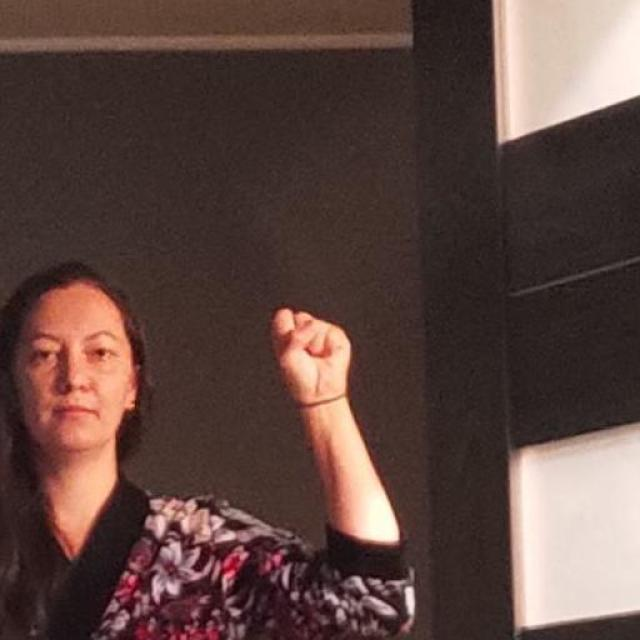hand: (268, 305, 352, 407)
